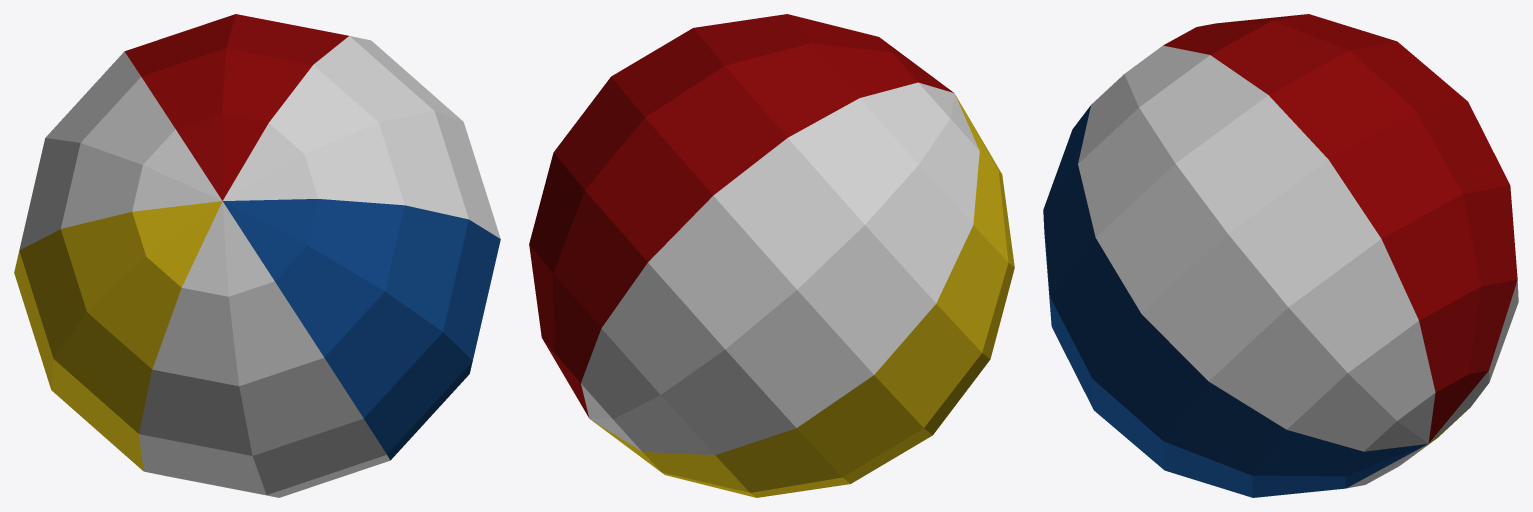
The model's file is Voleybah.dae.
The picture shows the model from 3 angles, left to right: view 1: azimuth 30°, elevation 25°; view 2: azimuth 150°, elevation 25°; view 3: azimuth 270°, elevation 25°; orthographic projection.
Visible parts, largest first — view 1: Beach_Ball; view 2: Beach_Ball; view 3: Beach_Ball.
Boxes of the visible parts, x1=… form: Beach_Ball: x1=14, y1=14, x2=500, y2=497; Beach_Ball: x1=529, y1=14, x2=1014, y2=497; Beach_Ball: x1=1043, y1=14, x2=1518, y2=497.
Bounding box in the file's own units: 1.04 × 1.05 × 1.04.
